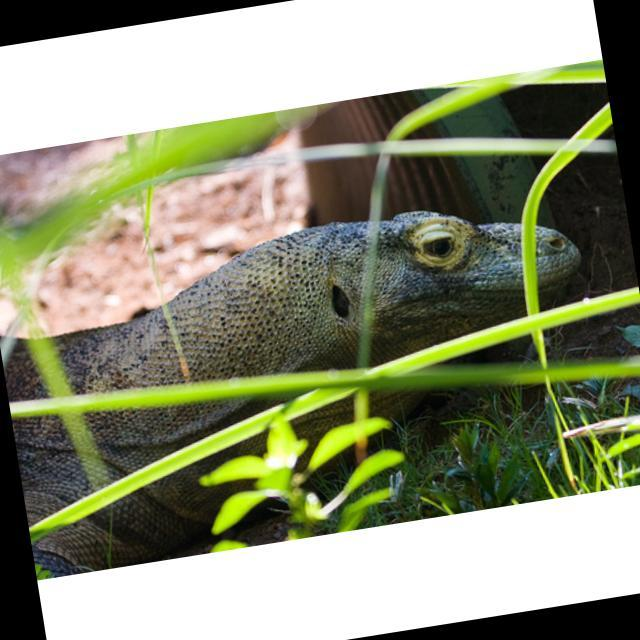KomodoDragon: (0, 181, 619, 574)
